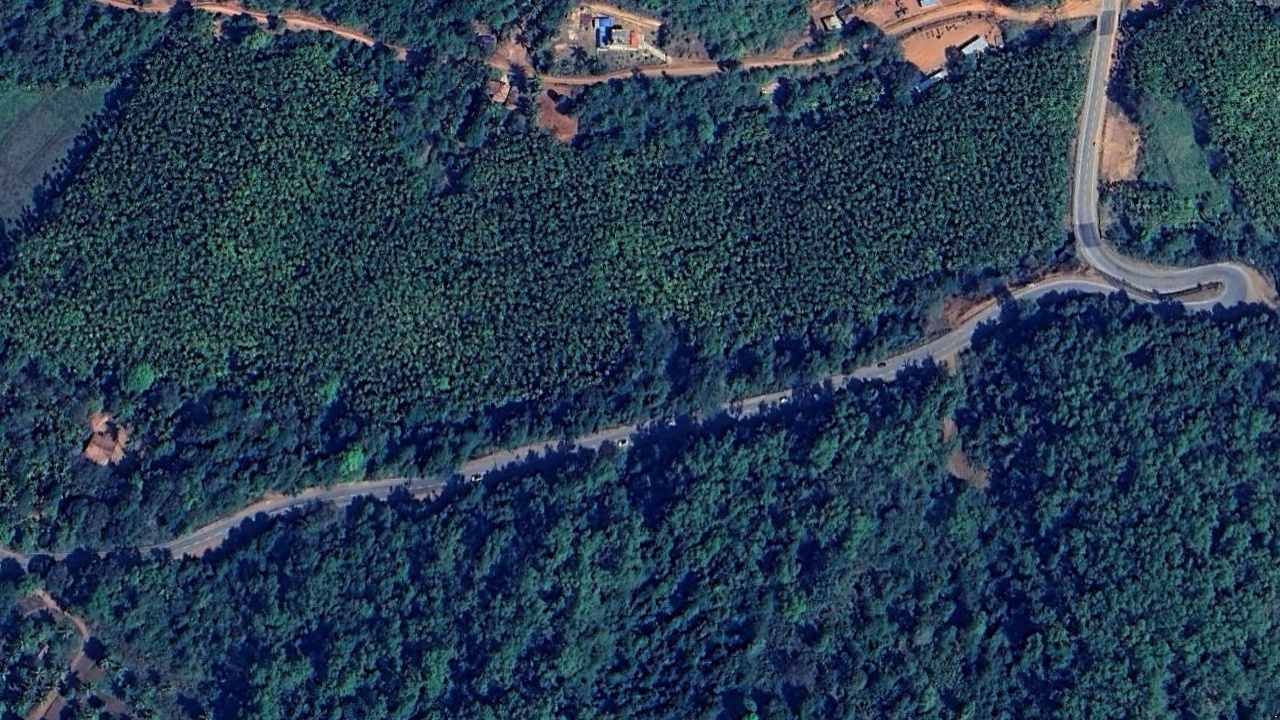arecanut: (1, 38, 1085, 420), (1122, 1, 1280, 256)
